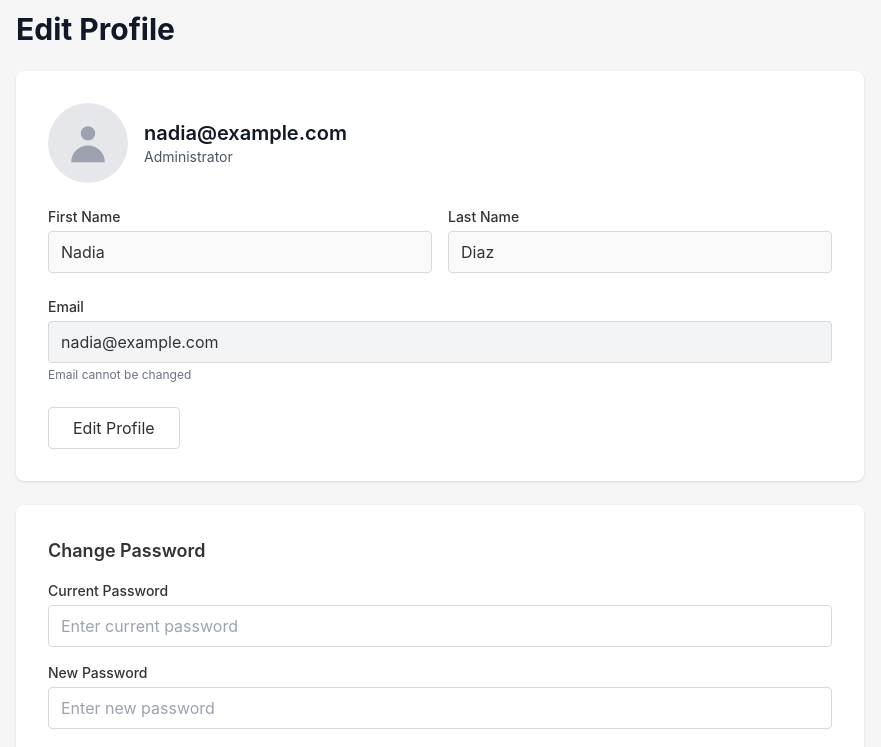
Scenario: Profile › submits profile name changes through usersApi
Check: the heading "nadia@example.com" is shown, box 144,119 -> 347,147
Click the button "Edit Profile": (114, 428) 48,407 -> 180,449
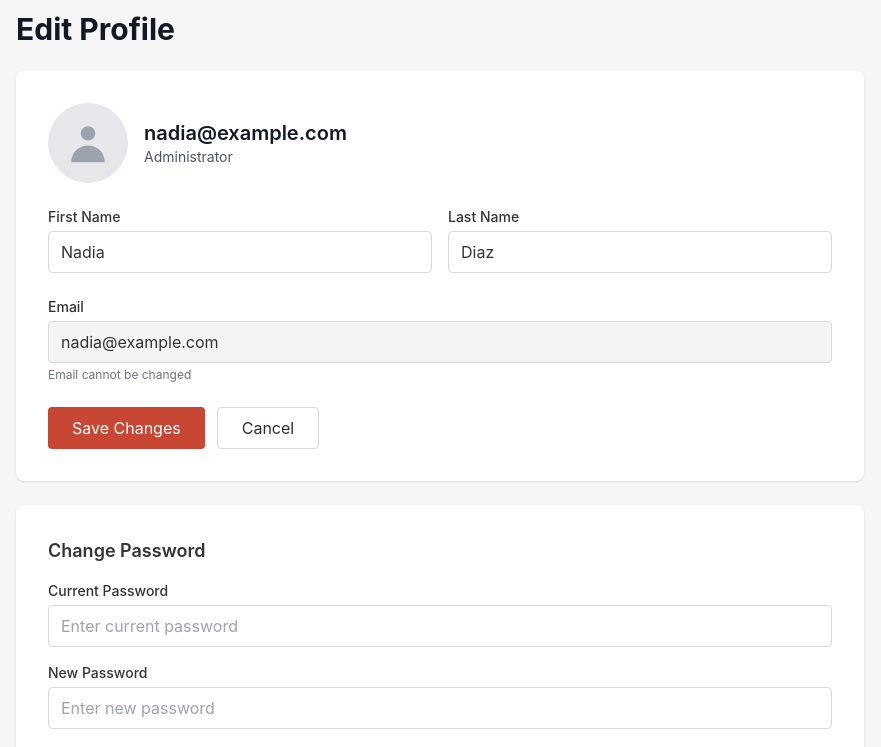
Replace the text in the field showing "Nadia" below "First Name" with "Nadia Maria": (240, 252) 48,231 -> 432,273
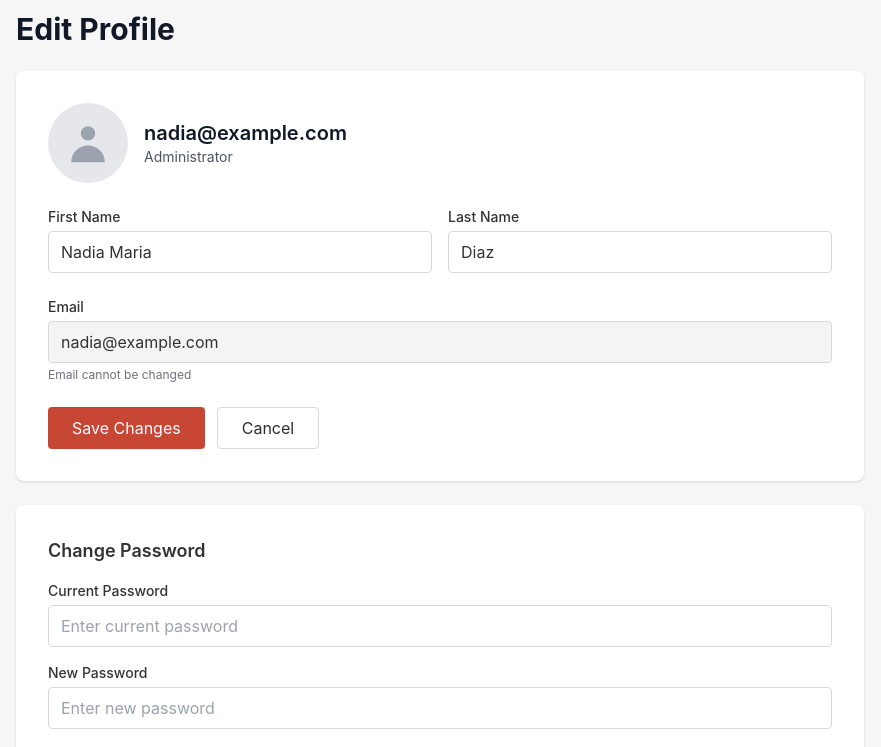
Click the button "Save Changes": (126, 428) 48,407 -> 205,449
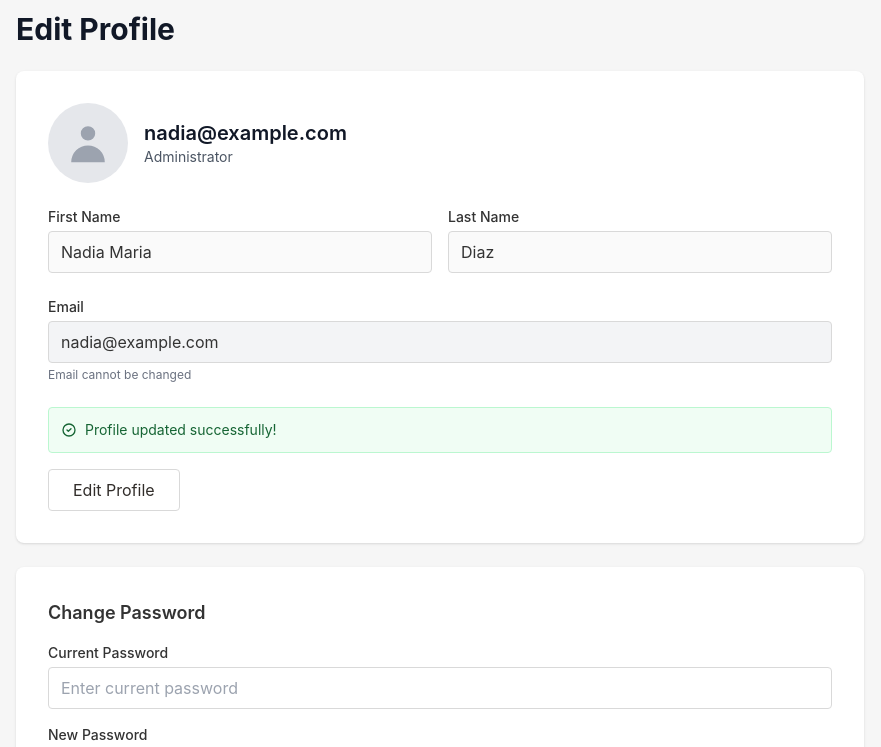
Check: the text "Profile updated successfully!" is shown, box 85,420 -> 277,440
